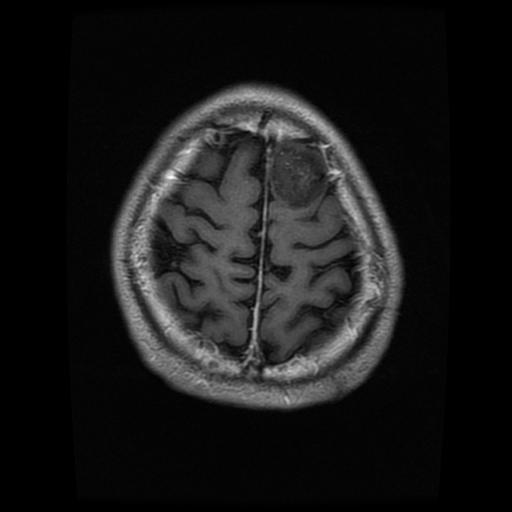Gliomia_tumour: (269, 141, 328, 208)
